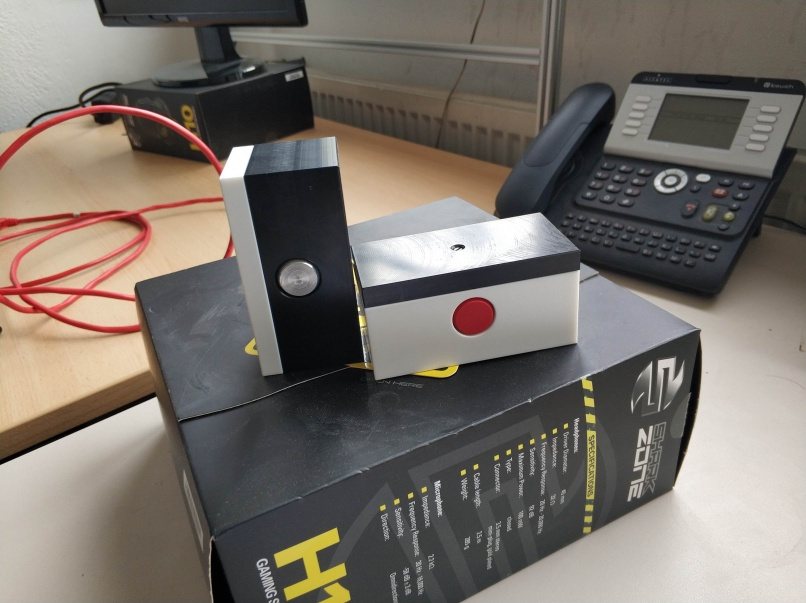black+white+red: (351, 210, 583, 383)
white+black+silver: (216, 133, 365, 379)
